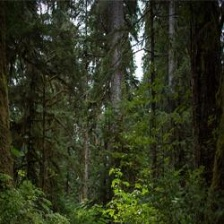neutral: (4, 2, 223, 223)
